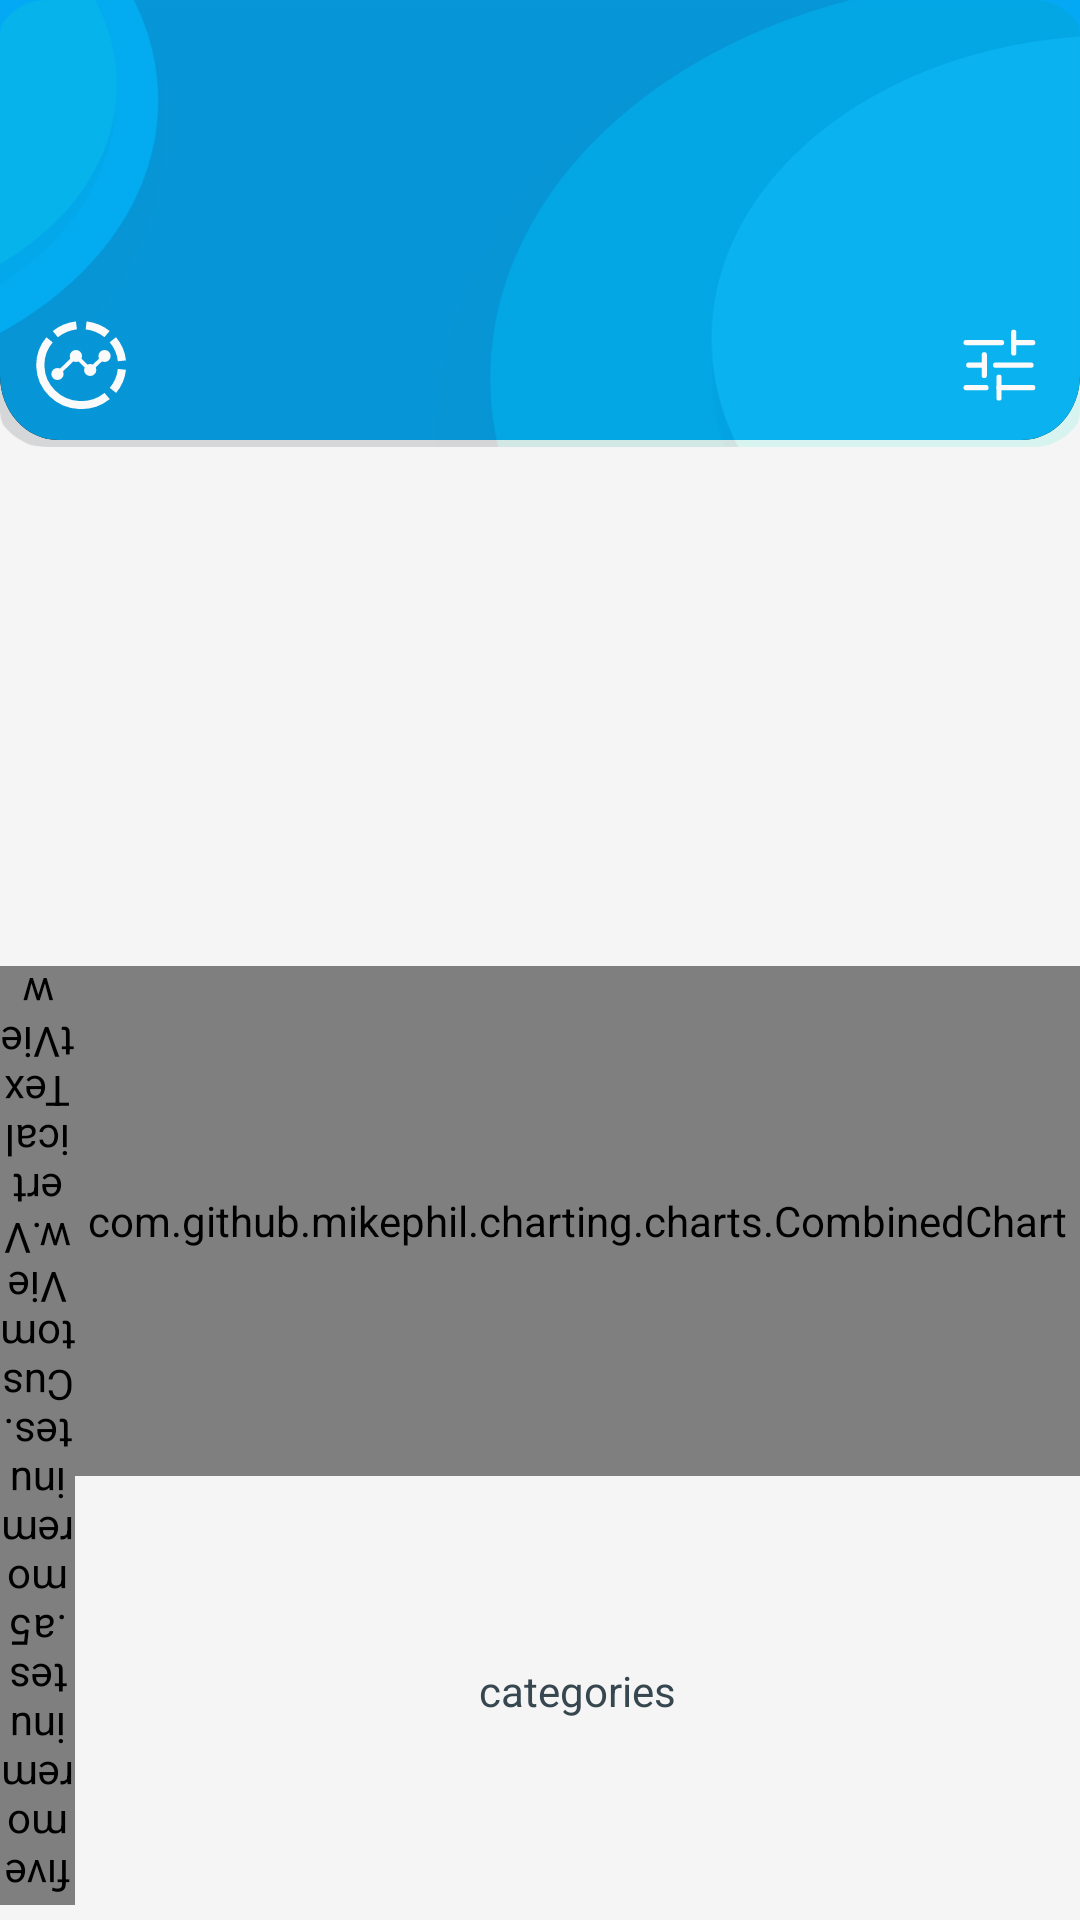

Where icons sit on this 1080x1920 app screen, as (x1, y1, x2, y2):
settings: (963, 329, 1036, 401)
